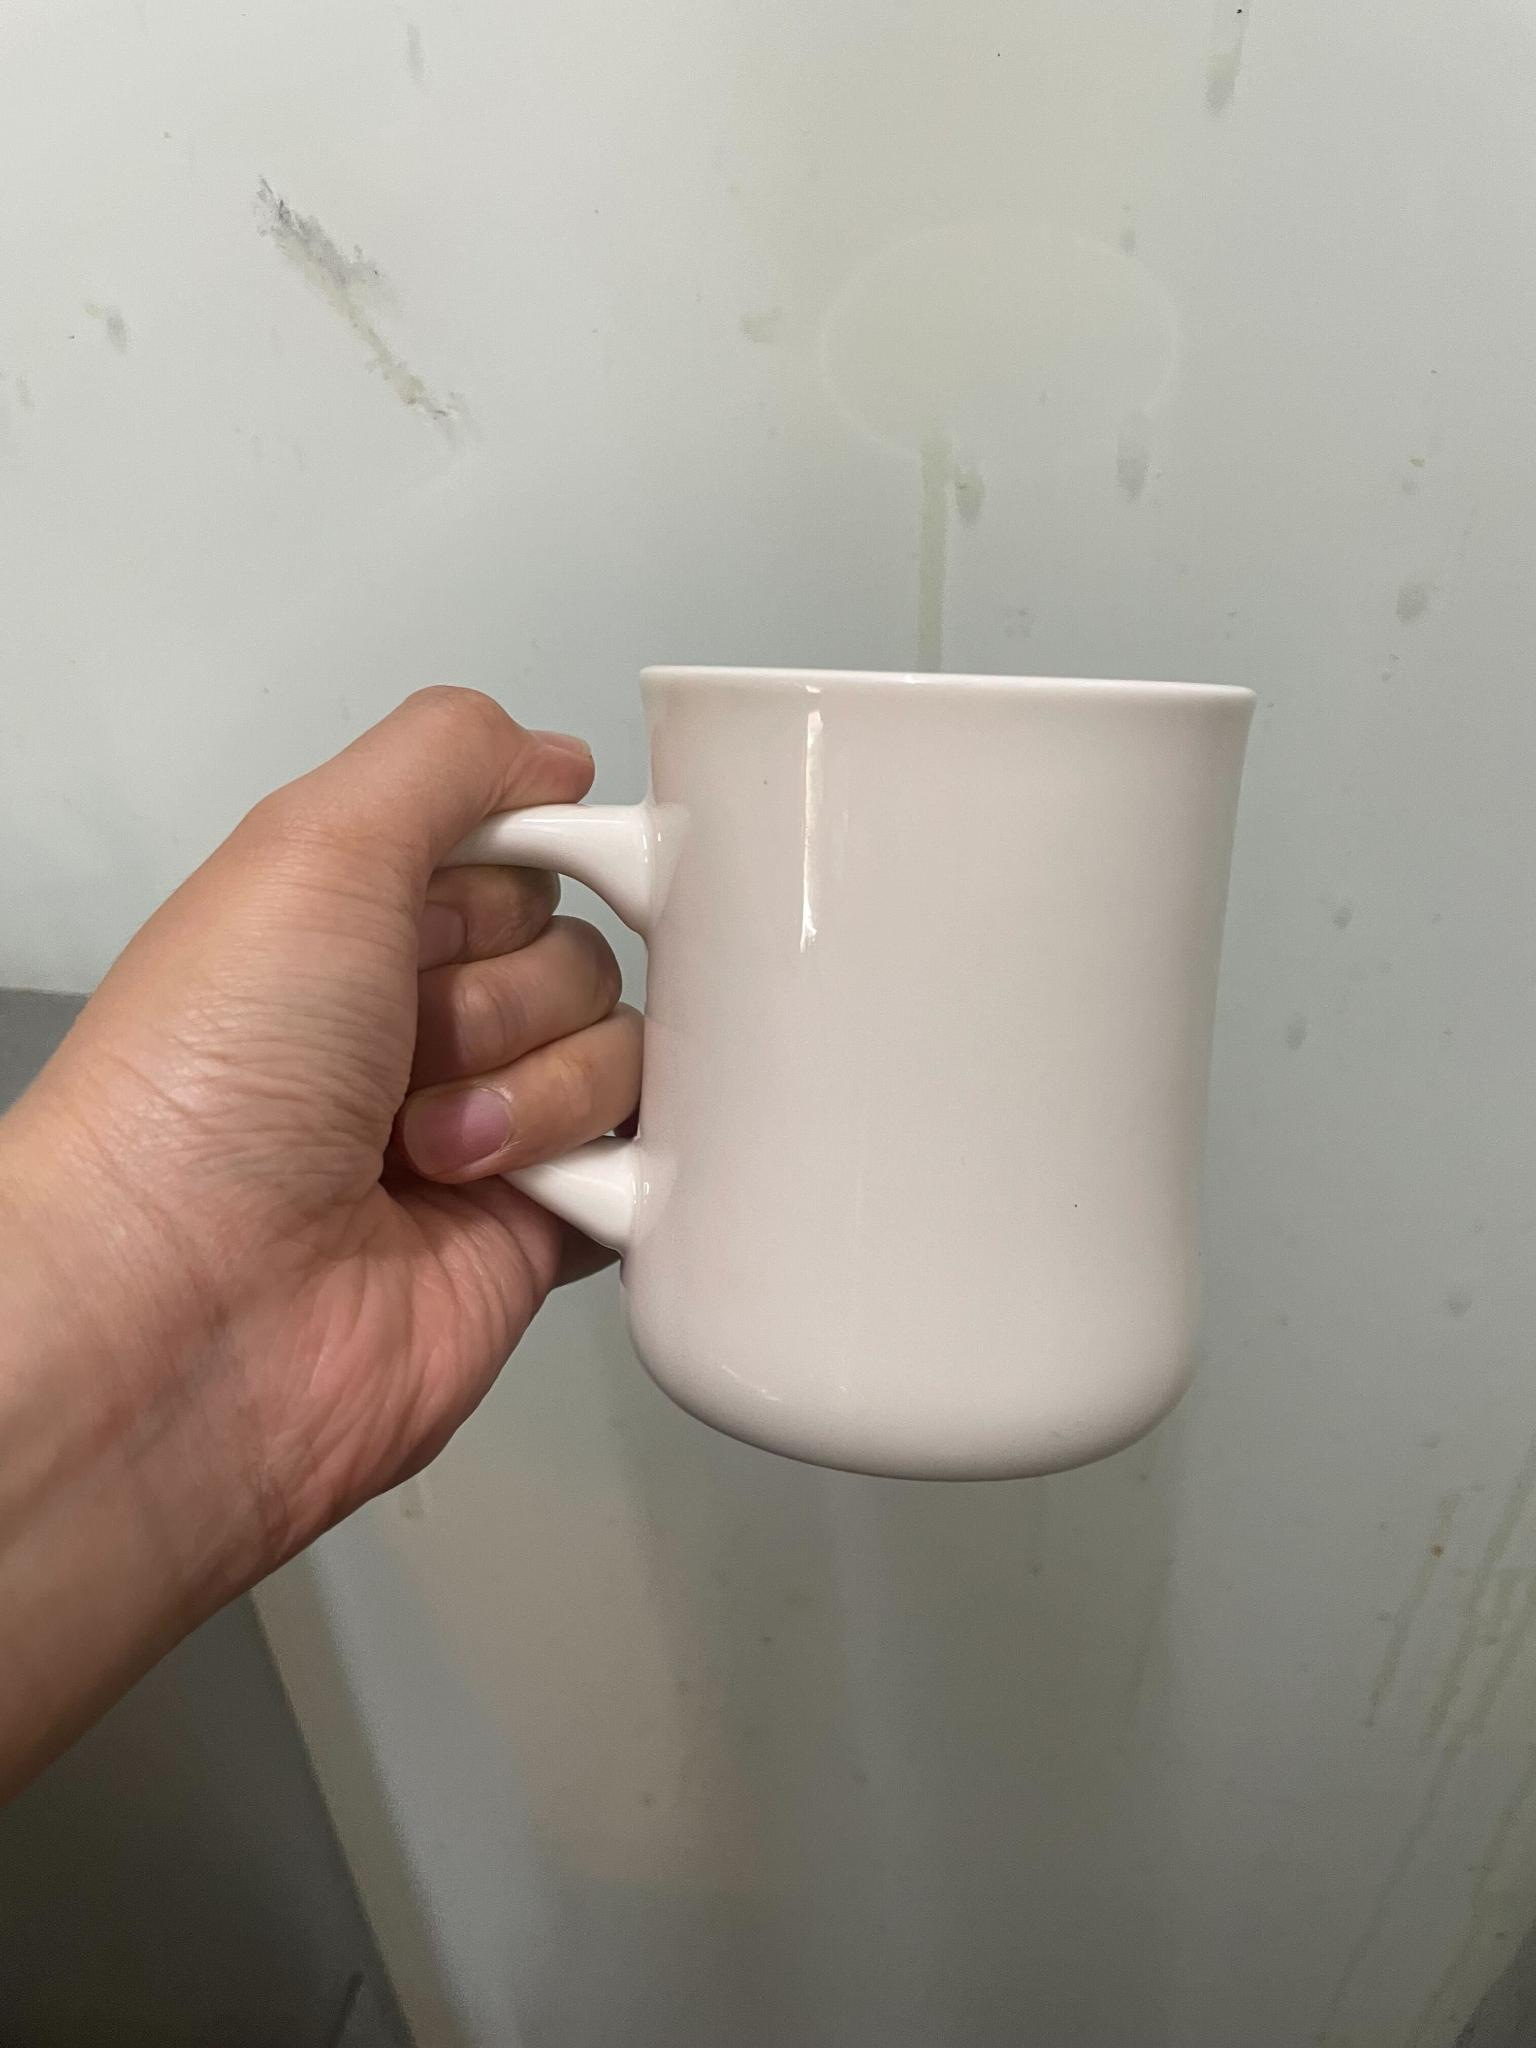cup: (5, 653, 1257, 1813)
